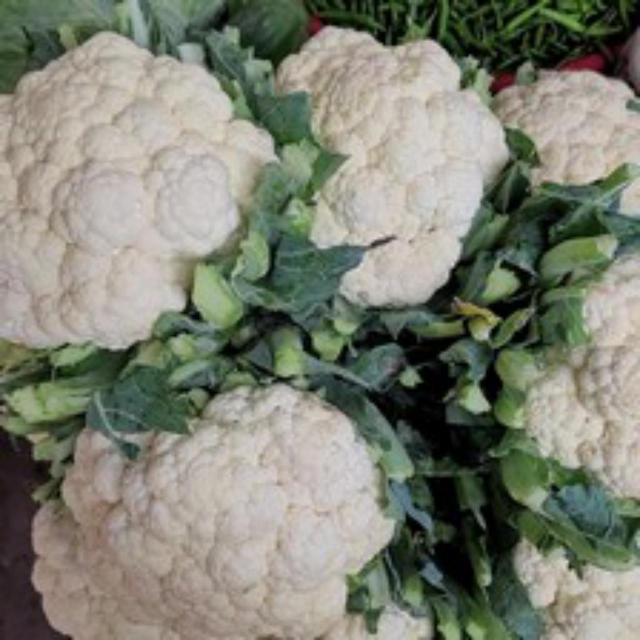cauliflower: (29, 388, 428, 637), (0, 36, 280, 340), (276, 16, 509, 327)
